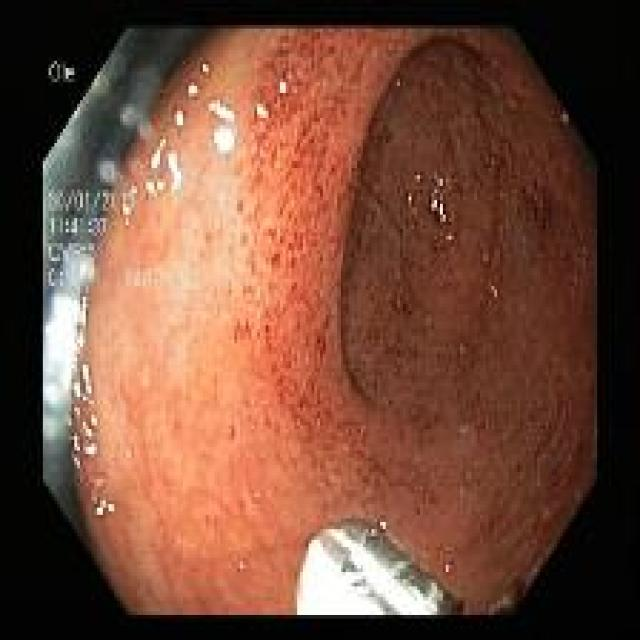ulcerative-colitis: (71, 30, 596, 614)
